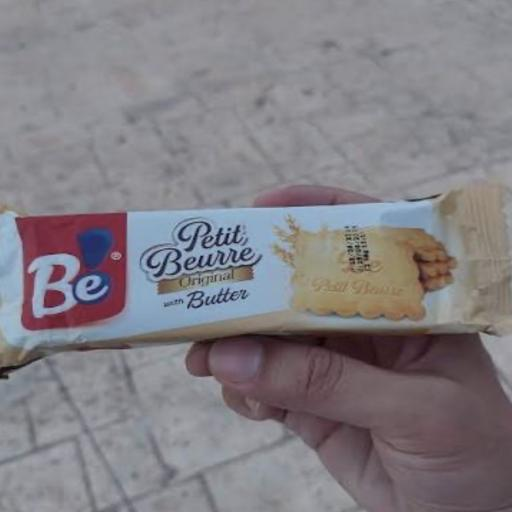petit-beurre: (0, 182, 512, 366)
